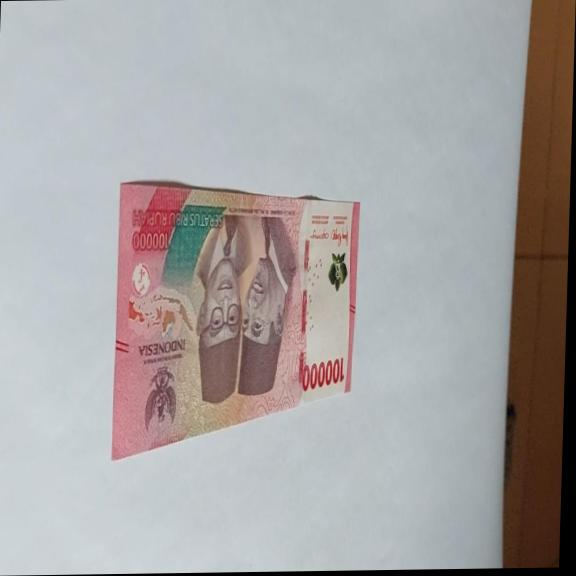Kertas: (110, 177, 361, 462), (300, 355, 345, 393)
